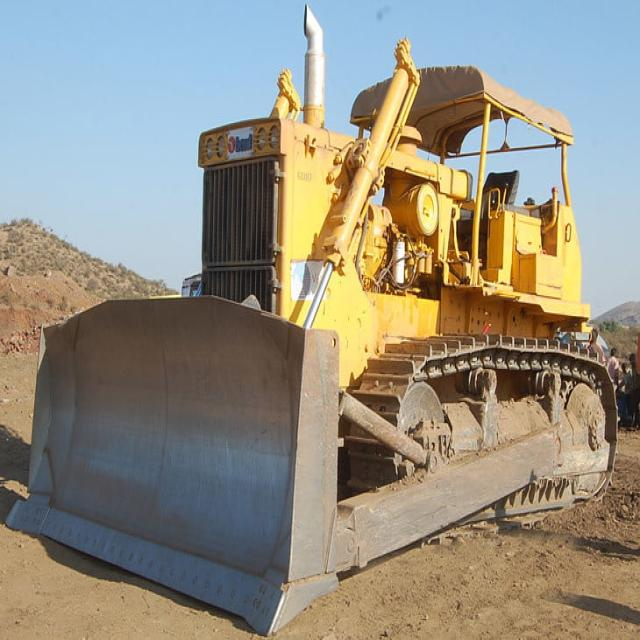buldozerpayloadergrader: (15, 7, 620, 616)
